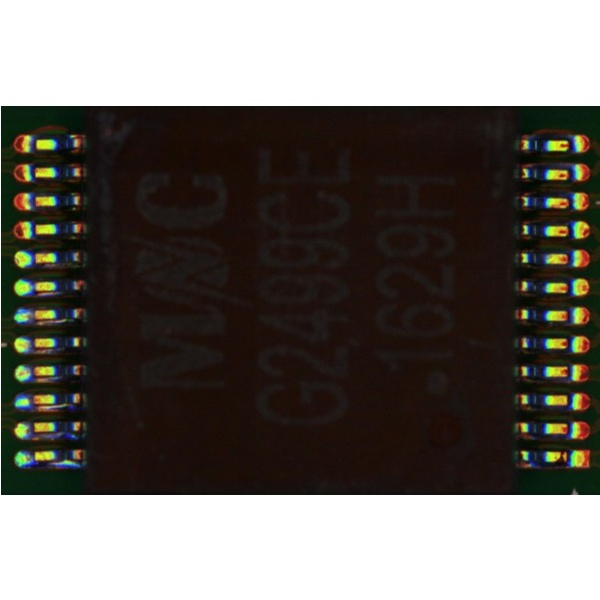Bad_qiaojiao: (33, 320, 71, 326), (33, 404, 69, 410), (33, 377, 62, 383), (34, 292, 62, 297), (34, 349, 62, 354)
